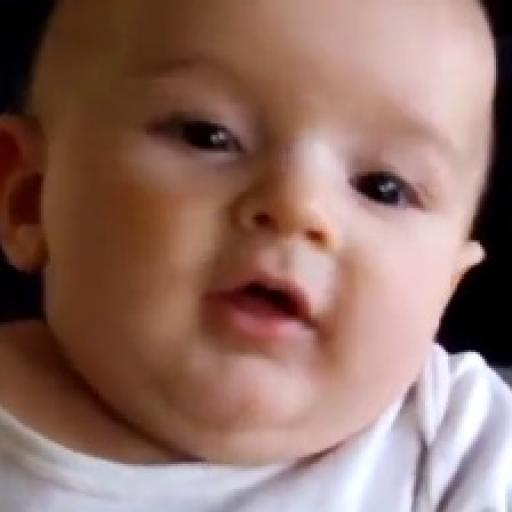Autism: (29, 8, 512, 468)
